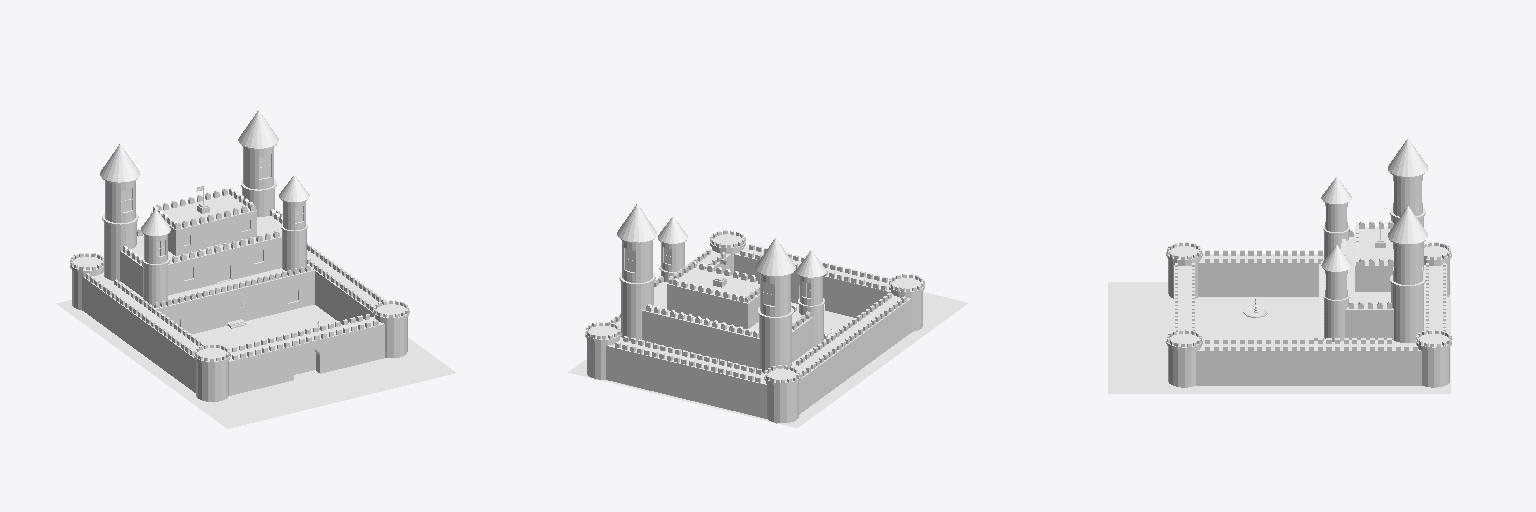
The model's file is castlecomp.obj.
3 views of the same model, side by side, from view 1: azimuth 30°, elevation 25°; view 2: azimuth 150°, elevation 25°; view 3: azimuth 270°, elevation 25° (orthographic).
Visible parts, largest first — view 1: Castle_Exterior_Mesh, Castle_Interior_Mesh.003, Towers_Doors_and_Windows_Mesh.001, Ground_and_Fountain_Mesh.002; view 2: Castle_Exterior_Mesh, Towers_Doors_and_Windows_Mesh.001, Castle_Interior_Mesh.003, Ground_and_Fountain_Mesh.002; view 3: Castle_Exterior_Mesh, Ground_and_Fountain_Mesh.002, Towers_Doors_and_Windows_Mesh.001, Castle_Interior_Mesh.003.
Part boxes in pixels (left/top/right/bottom): Castle_Exterior_Mesh: left=70, top=210, right=409, bottom=401; Castle_Interior_Mesh.003: left=103, top=185, right=314, bottom=333; Towers_Doors_and_Windows_Mesh.001: left=100, top=110, right=315, bottom=374; Ground_and_Fountain_Mesh.002: left=56, top=300, right=455, bottom=428; Castle_Exterior_Mesh: left=585, top=230, right=924, bottom=423; Towers_Doors_and_Windows_Mesh.001: left=617, top=204, right=826, bottom=372; Castle_Interior_Mesh.003: left=620, top=260, right=827, bottom=373; Ground_and_Fountain_Mesh.002: left=568, top=292, right=967, bottom=427; Castle_Exterior_Mesh: left=1166, top=242, right=1451, bottom=387; Ground_and_Fountain_Mesh.002: left=1108, top=282, right=1450, bottom=393; Towers_Doors_and_Windows_Mesh.001: left=1311, top=138, right=1428, bottom=342; Castle_Interior_Mesh.003: left=1319, top=220, right=1424, bottom=341.
Size of the model in its own units: 42.05 by 29.13 by 54.71.